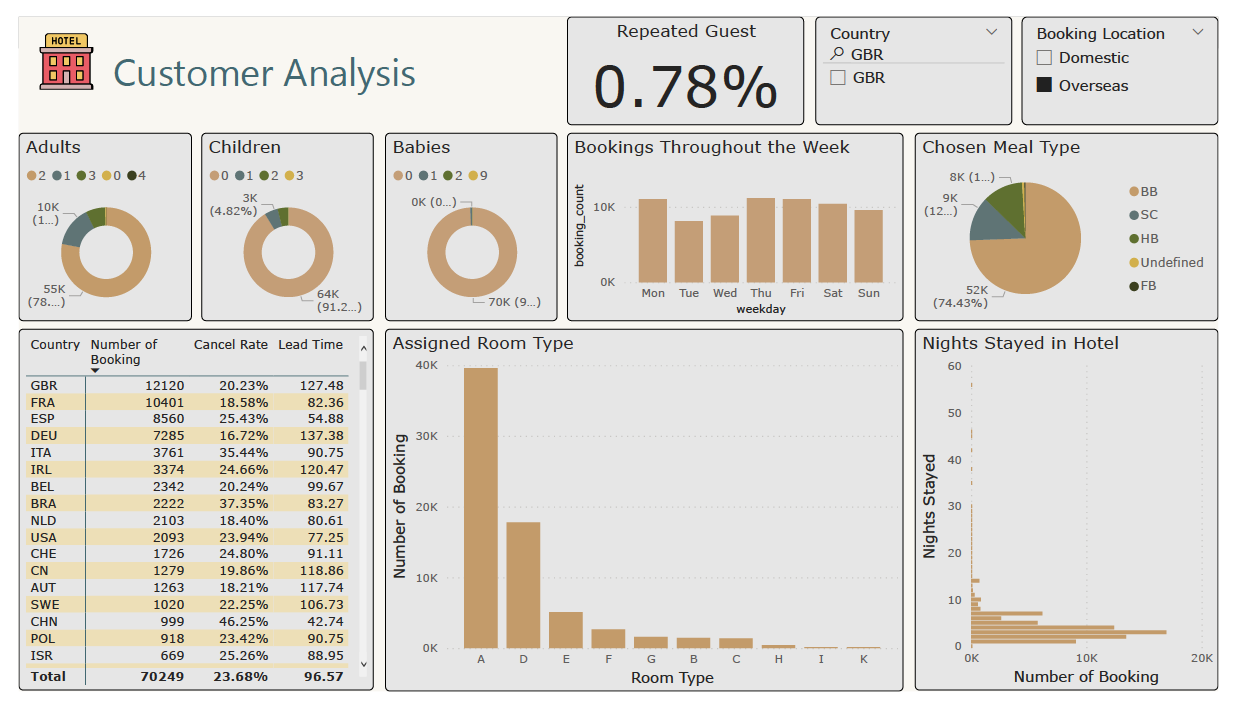

The dashboard page shown, as its layout file describes it:
{"tool":"powerbi","page":{"name":"Customer Analysis","canvas":[1280,720],"ordinal":2},"visuals":[{"type":"slicer","fields":{"Values":["hotel_booking_cleaned.country"]},"box":[850.2,0,209.7,115.5],"z":0},{"type":"donutChart","title":"Adults","fields":{"Category":["hotel_booking_cleaned.adults"],"Y":["hotel_booking_cleaned.booking_count"]},"box":[0,124.3,184.6,200.9],"z":1000},{"type":"donutChart","title":"Children","fields":{"Category":["hotel_booking_cleaned.children"],"Y":["hotel_booking_cleaned.booking_count"]},"box":[194.7,124.3,184.6,200.9],"z":2000},{"type":"donutChart","title":"Babies","fields":{"Category":["hotel_booking_cleaned.babies"],"Y":["hotel_booking_cleaned.booking_count"]},"box":[390.6,124.3,184.6,200.9],"z":3000},{"type":"clusteredBarChart","title":"Nights Stayed in Hotel","fields":{"Category":["hotel_booking_cleaned.nights_stayed"],"Y":["hotel_booking_cleaned.booking_count"]},"box":[956,333,324,386],"z":4000},{"type":"pieChart","title":"Chosen Meal Type","fields":{"Category":["hotel_booking_cleaned.meal"],"Y":["hotel_booking_cleaned.booking_count"]},"box":[955.8,124.4,323.9,200.8],"z":5000},{"type":"clusteredColumnChart","title":"Assigned Room Type","fields":{"Category":["hotel_booking_cleaned.assigned_room_type"],"Y":["hotel_booking_cleaned.booking_count"]},"box":[390.6,332.8,553.8,386.8],"z":6000},{"type":"clusteredColumnChart","title":"Bookings Throughout the Week","fields":{"Y":["hotel_booking_cleaned.booking_count"],"Category":["sort_weekday.weekday"]},"box":[585.2,124.3,359.2,200.9],"z":7000},{"type":"shape","box":[9.9,9.9,421.3,96.1],"z":8000},{"type":"image","box":[16,12.3,70.2,70.2],"z":9000},{"type":"pivotTable","fields":{"Rows":["hotel_booking_cleaned.country"],"Values":["hotel_booking_cleaned.booking_count","hotel_booking_cleaned.cancel_rate","hotel_booking_cleaned.avg_lead_time"]},"box":[0,333,379,386],"z":10000},{"type":"slicer","fields":{"Values":["hotel_booking_cleaned.booking_location"]},"box":[1070,0,209.7,115.5],"z":11000},{"type":"card","title":"Repeated Guest","fields":{"Values":["measure_groups.repeated_guest_ratio"]},"box":[585.2,0,252.4,115.5],"z":12000}]}

Visuals, with their boxes in screenshot pixels (x1, y1, x2, y2), scaled from the page's 1280x720 canvas onto the 1237x710 screenshot:
slicer - hotel_booking_cleaned.country: 822, 0, 1024, 114
"Adults" donutChart: 0, 123, 178, 321
"Children" donutChart: 188, 123, 367, 321
"Babies" donutChart: 377, 123, 556, 321
"Nights Stayed in Hotel" clusteredBarChart: 924, 328, 1236, 709
"Chosen Meal Type" pieChart: 924, 123, 1236, 321
"Assigned Room Type" clusteredColumnChart: 377, 328, 913, 709
"Bookings Throughout the Week" clusteredColumnChart: 566, 123, 913, 321
shape: 10, 10, 417, 105
image: 15, 12, 83, 81
pivotTable - hotel_booking_cleaned.country x hotel_booking_cleaned.booking_count: 0, 328, 366, 709
slicer - hotel_booking_cleaned.booking_location: 1034, 0, 1236, 114
"Repeated Guest" card: 566, 0, 809, 114
